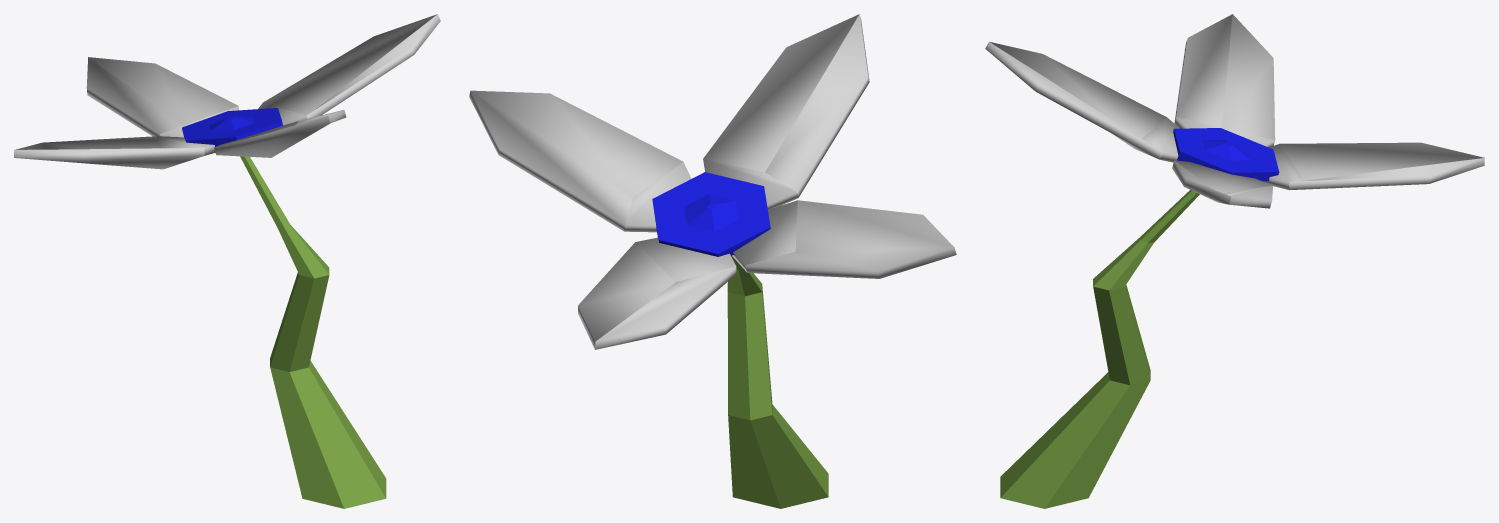
File: flower03.fbx
The picture shows the model from 3 angles, left to right: view 1: azimuth 30°, elevation 25°; view 2: azimuth 150°, elevation 25°; view 3: azimuth 270°, elevation 25°; orthographic projection. The views are drawn at different scales.
Visible parts, largest first — view 1: cicekv3.002; view 2: cicekv3.002; view 3: cicekv3.002.
Boxes of the visible parts, bbox=[...] form: cicekv3.002: bbox=[14, 14, 440, 508]; cicekv3.002: bbox=[469, 14, 956, 508]; cicekv3.002: bbox=[985, 14, 1484, 508].
Bounding box in the file's own units: 0.0492 × 0.0444 × 0.0474.
